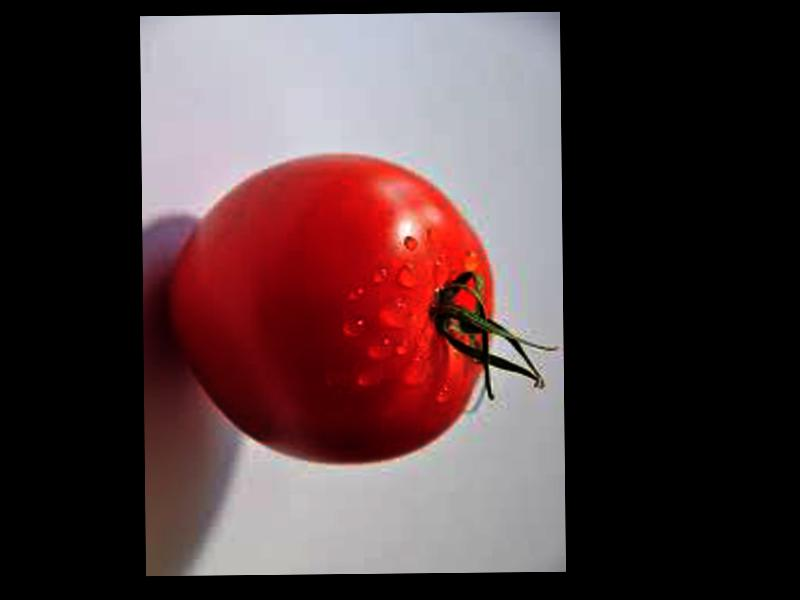Tomato: (166, 152, 491, 464)
